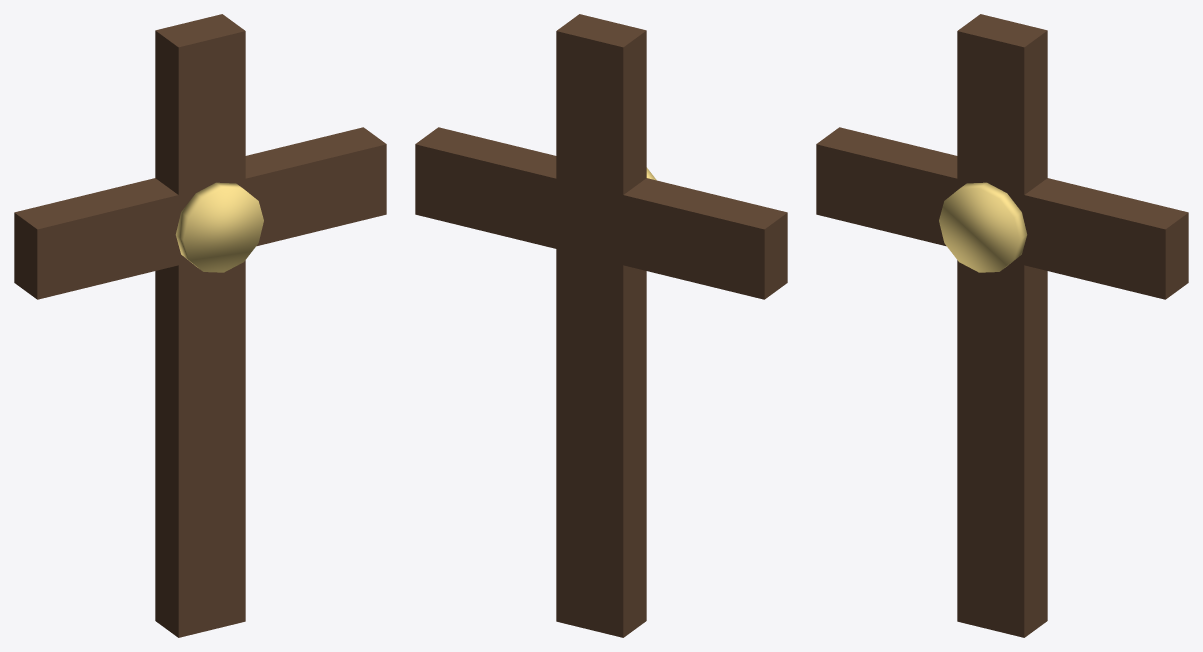
File: crucifix.glb
3 renders of one model, left to right at view 1: azimuth 30°, elevation 25°; view 2: azimuth 150°, elevation 25°; view 3: azimuth 330°, elevation 25°, orthographic.
Visible parts, largest first — view 1: crucifix; view 2: crucifix; view 3: crucifix.
Boxes of the visible parts, x1,y1,x2,y2 form: crucifix: (14, 14, 386, 637); crucifix: (415, 14, 787, 637); crucifix: (816, 14, 1188, 637).
Bounding box in the file's own units: 0.26 × 0.42 × 0.045.
